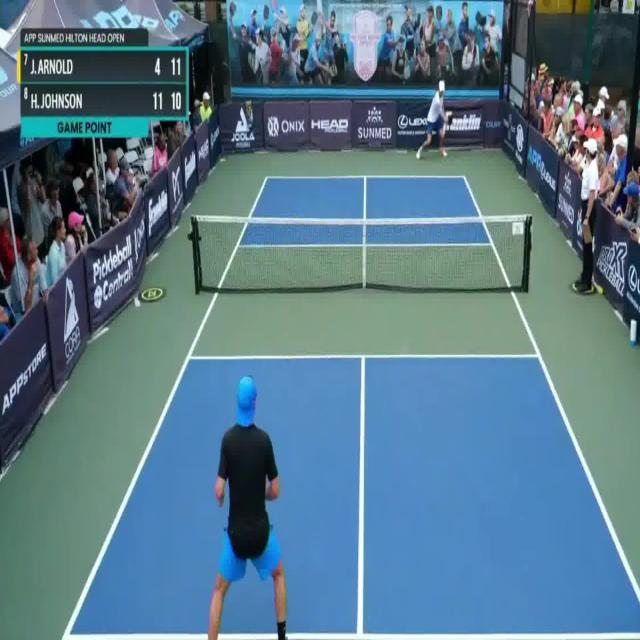Court: (61, 177, 640, 638)
